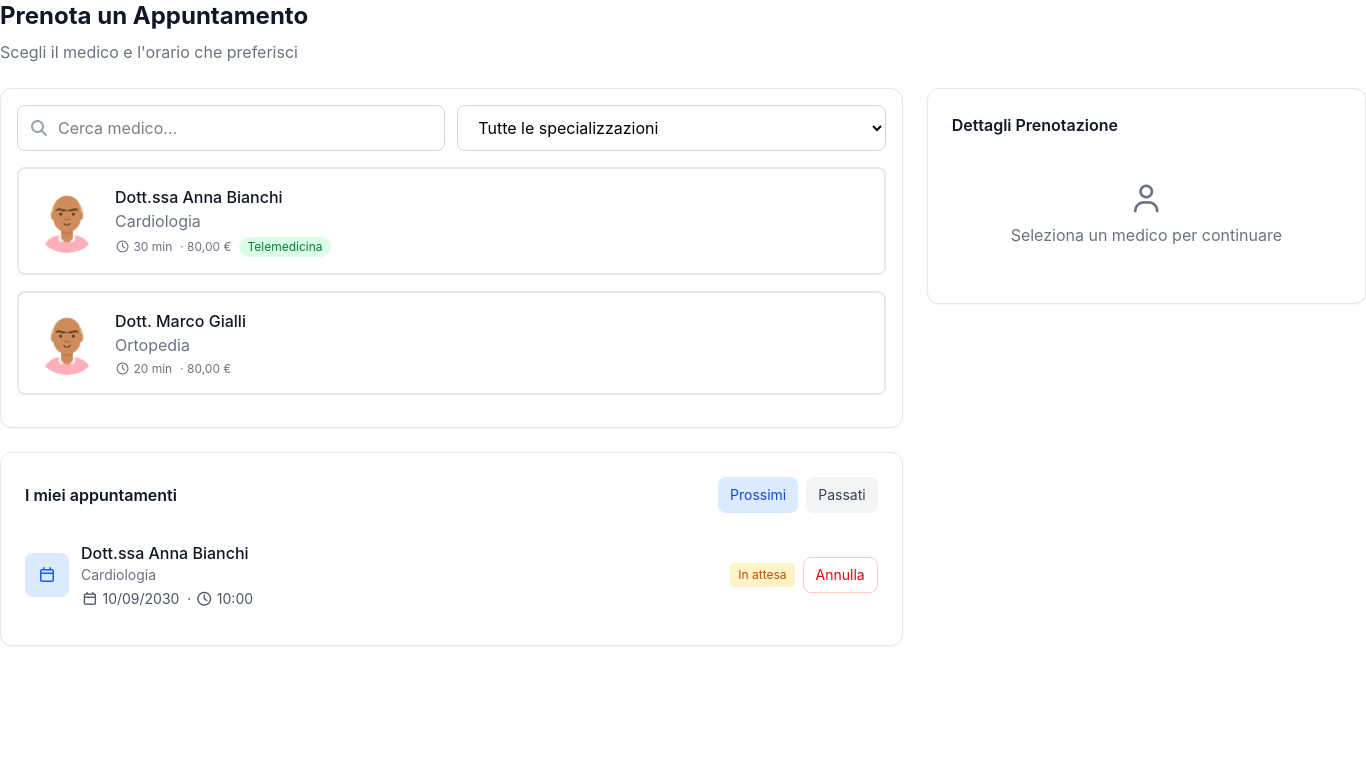
Test: Prenotazione visite (paziente) › profilo paziente mancante: la causa e scritta a video
Step 1. Click the button that starts with "Dott.ssa Anna Bianchi" → (67, 221), box x1=17 y1=167 x2=886 y2=275
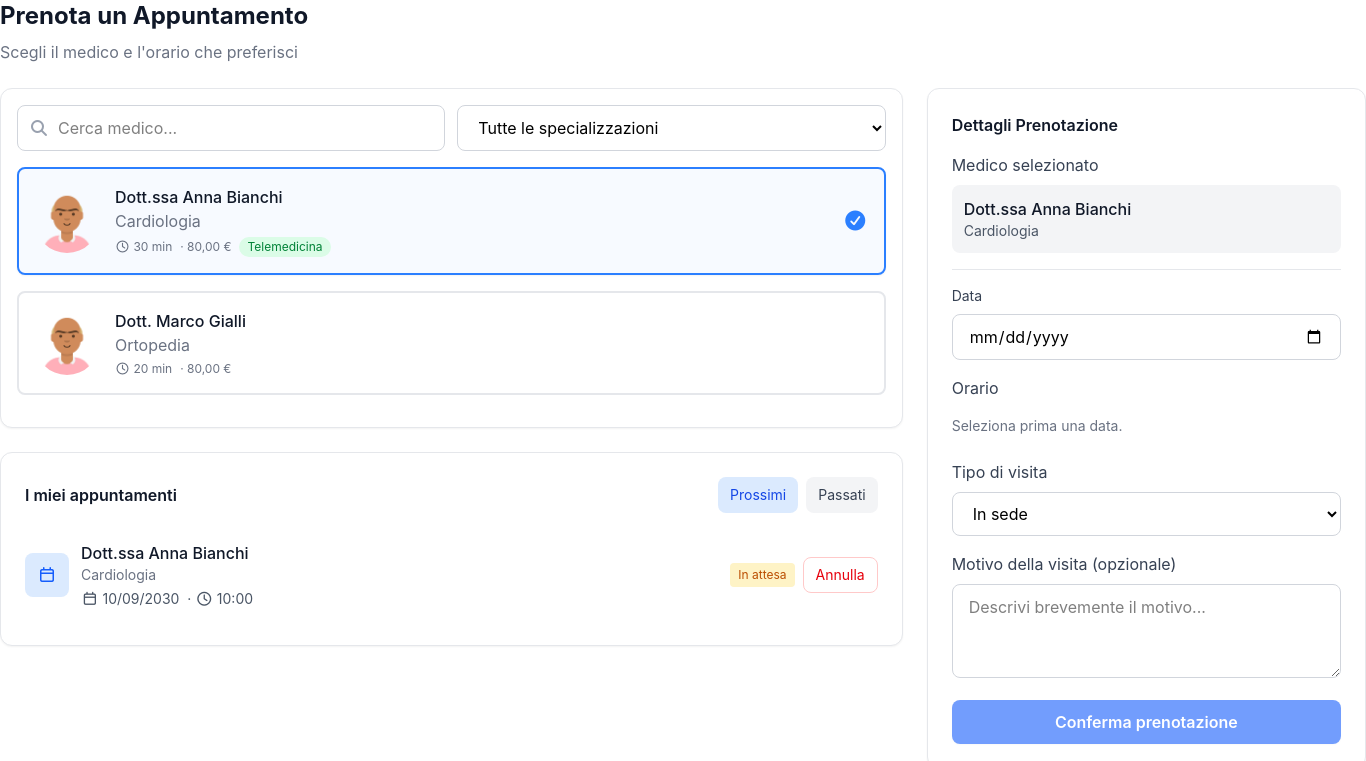
Step 2. Type "2030-09-10" into the date field with id "booking-date" → (1146, 337), box x1=952 y1=314 x2=1341 y2=360
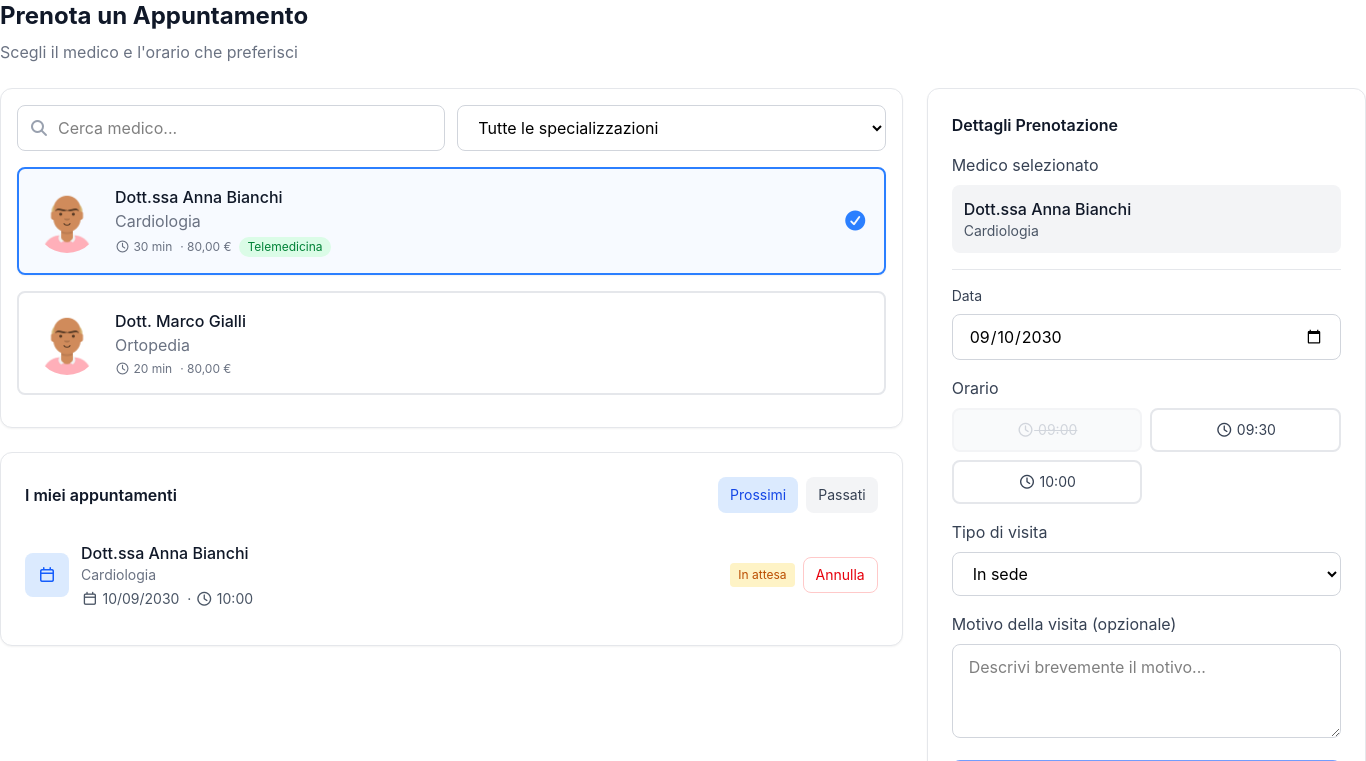
Step 3. Click the button "09:30" → (1246, 430), box x1=1150 y1=408 x2=1341 y2=452
(page scrolled)
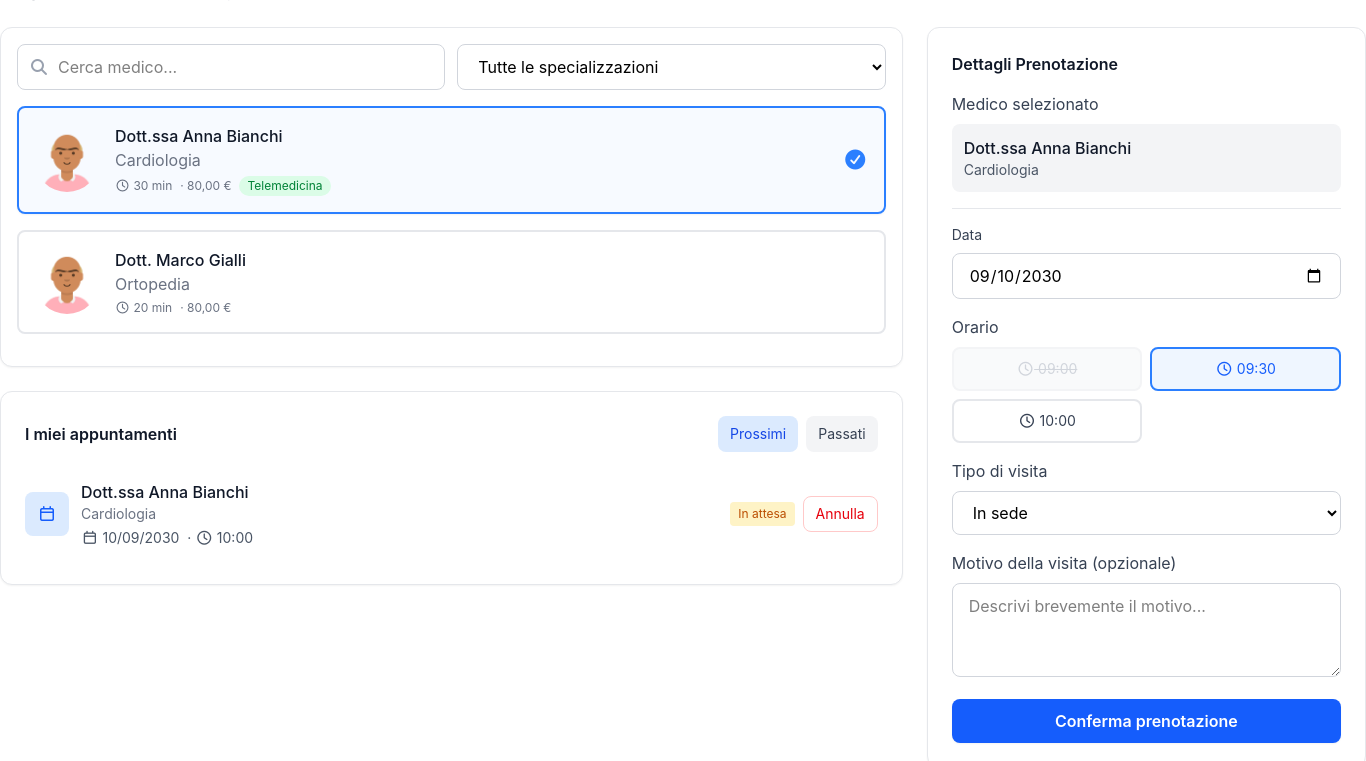
Step 4. Submit the form, box x1=952 y1=92 x2=1341 y2=743
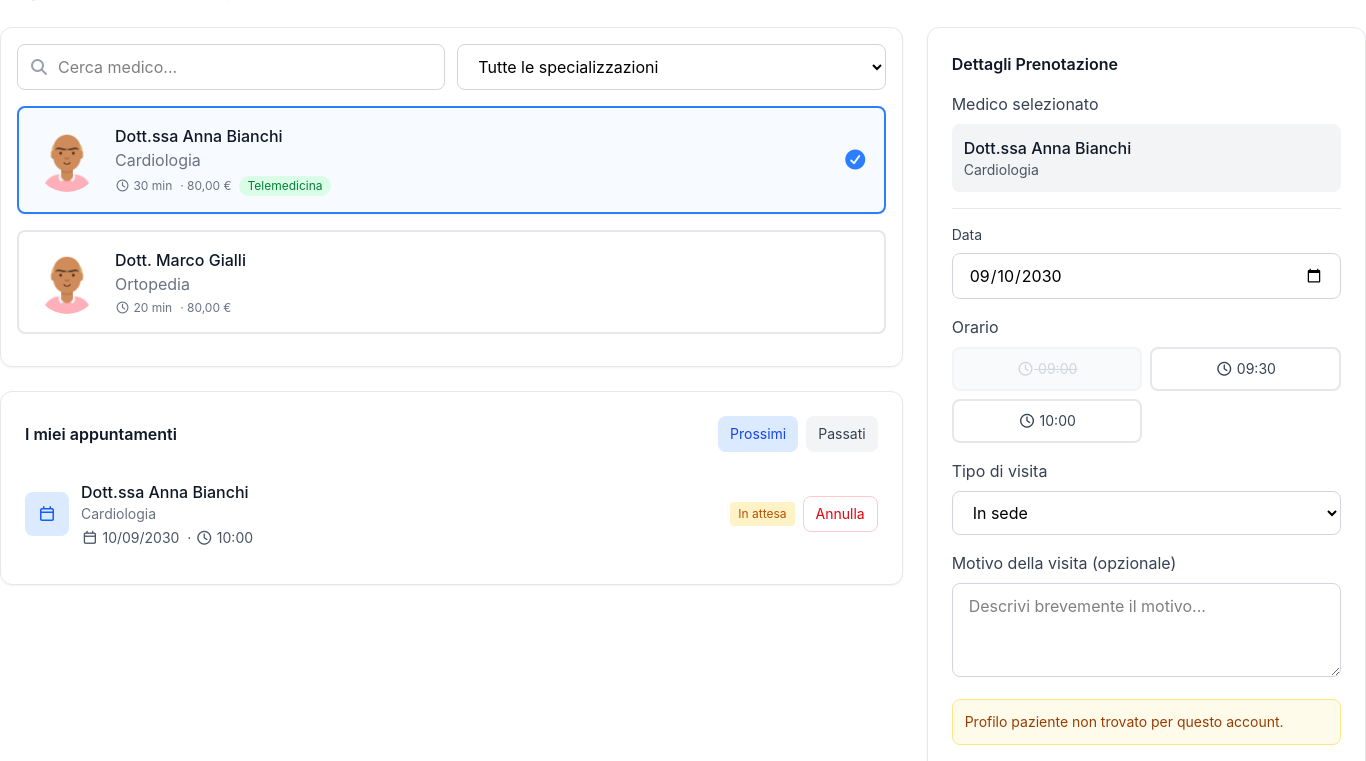
Result: the text "Profilo paziente non trovato per questo account." is shown at x1=952 y1=699 x2=1341 y2=745
